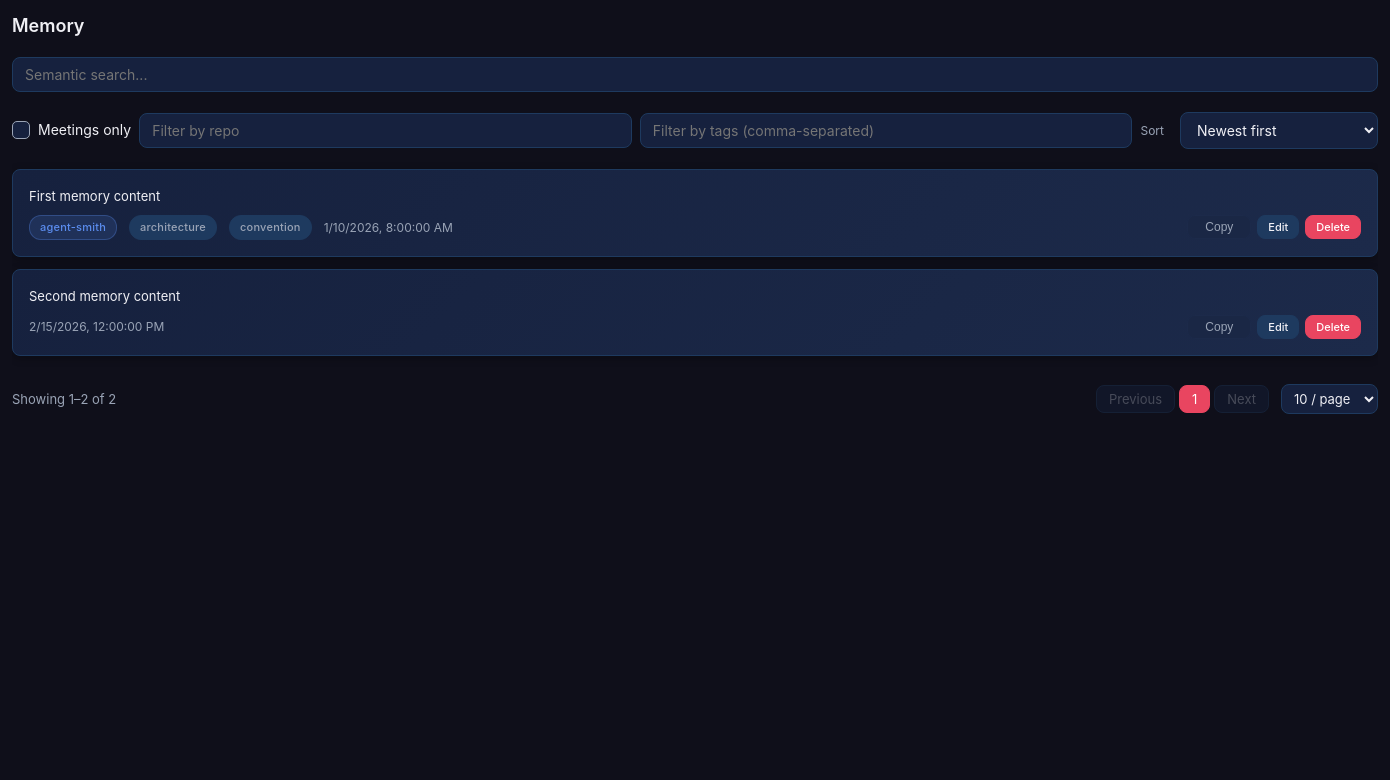
Scenario: MemoryPage › opens inline edit with pre-filled values
Expected: the text "First memory content" is shown, [29, 188, 160, 204]
Click the button "Edit" in the row of "1/10/2026, 8:00:00 AM" at x=1278, y=227, box [1257, 215, 1299, 239]
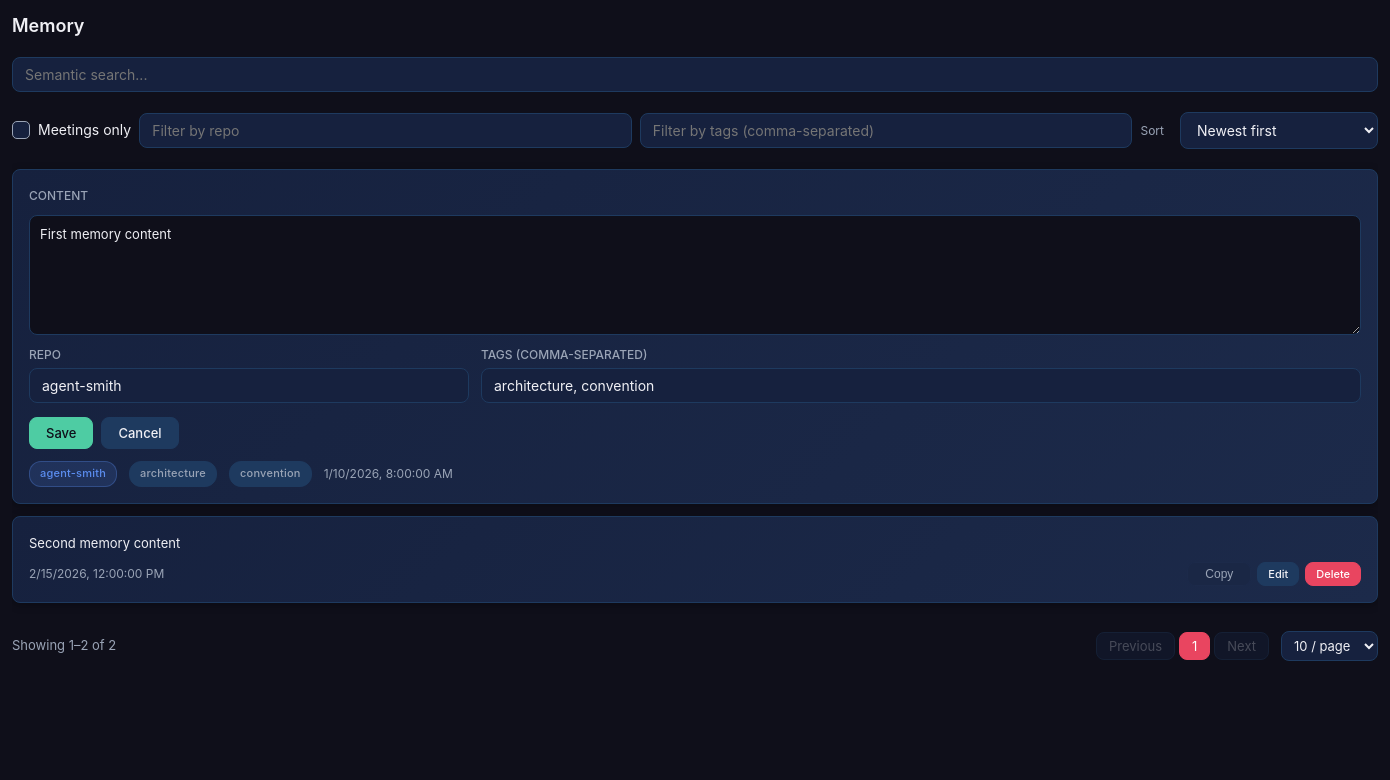
Now the text box showing "First memory content" is shown, box [29, 215, 1361, 335]
Now the field showing "agent-smith" below "Repo" is shown, box [29, 368, 469, 403]
Now the field showing "architecture, convention" below "Tags (comma-separated)" is shown, box [481, 368, 1361, 403]
